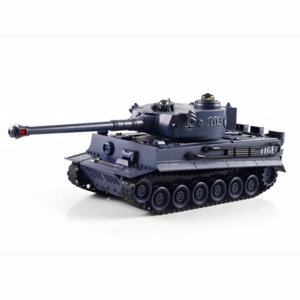Battle Tank: (7, 95, 288, 217)
